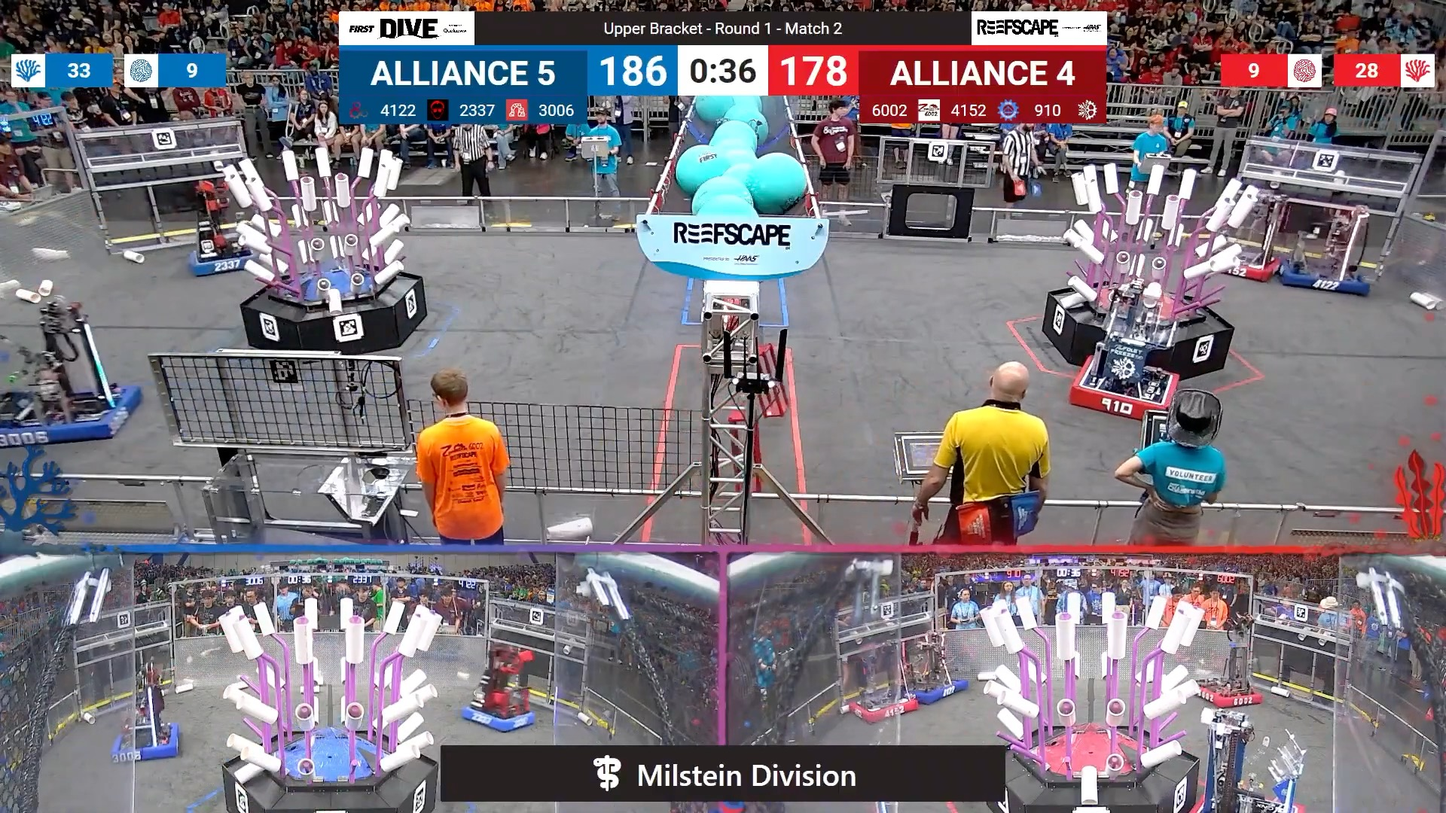bumpers: (0, 382, 147, 453), (1061, 359, 1182, 425), (1264, 261, 1378, 300), (108, 718, 185, 768), (453, 700, 542, 737), (180, 245, 264, 280), (841, 689, 926, 723), (1189, 680, 1268, 709)
